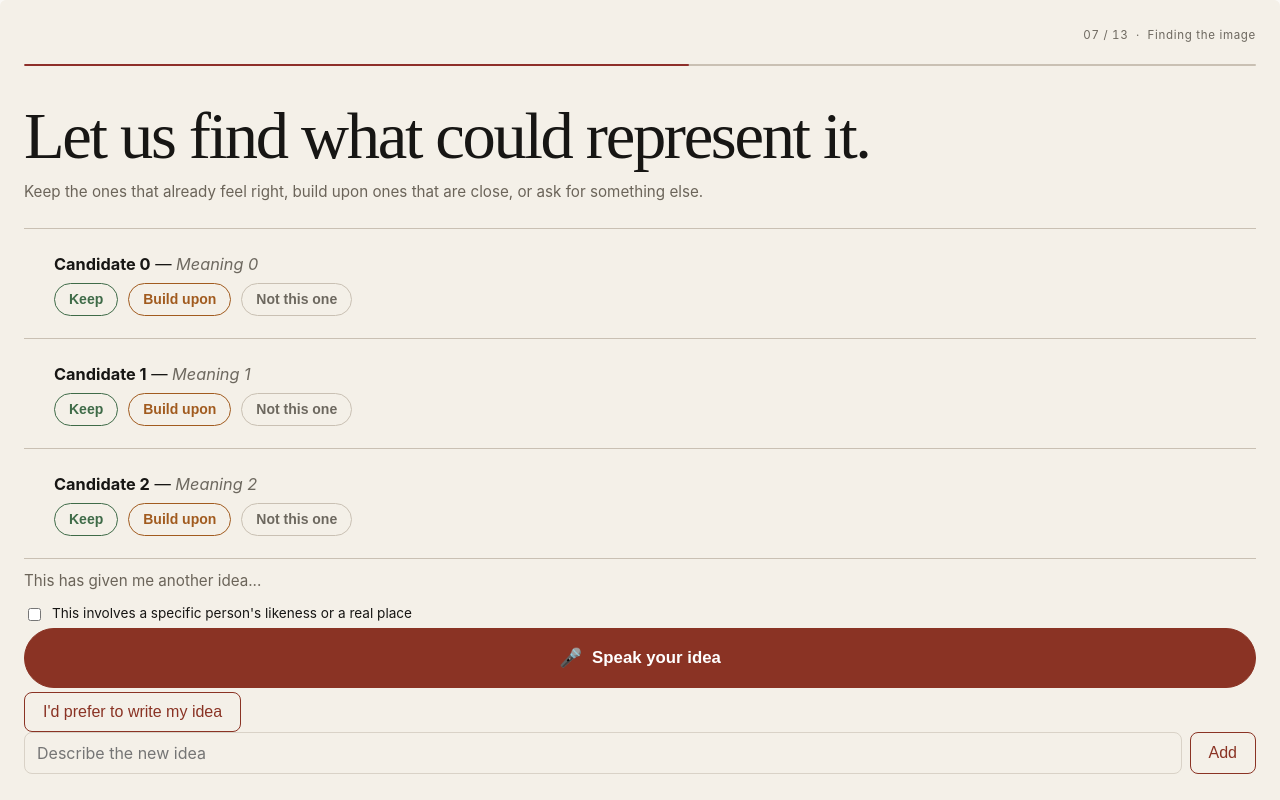
Test: ElementsDiscovery -- Keep / Build upon / Not this one, non-destructive per-slot history › Keep marks a candidate active; clicking Keep again clears the decision
Later steps or results of the test are not shown.
Click the button "Keep" below "Candidate 0" at [86, 300], box [54,283,118,316]
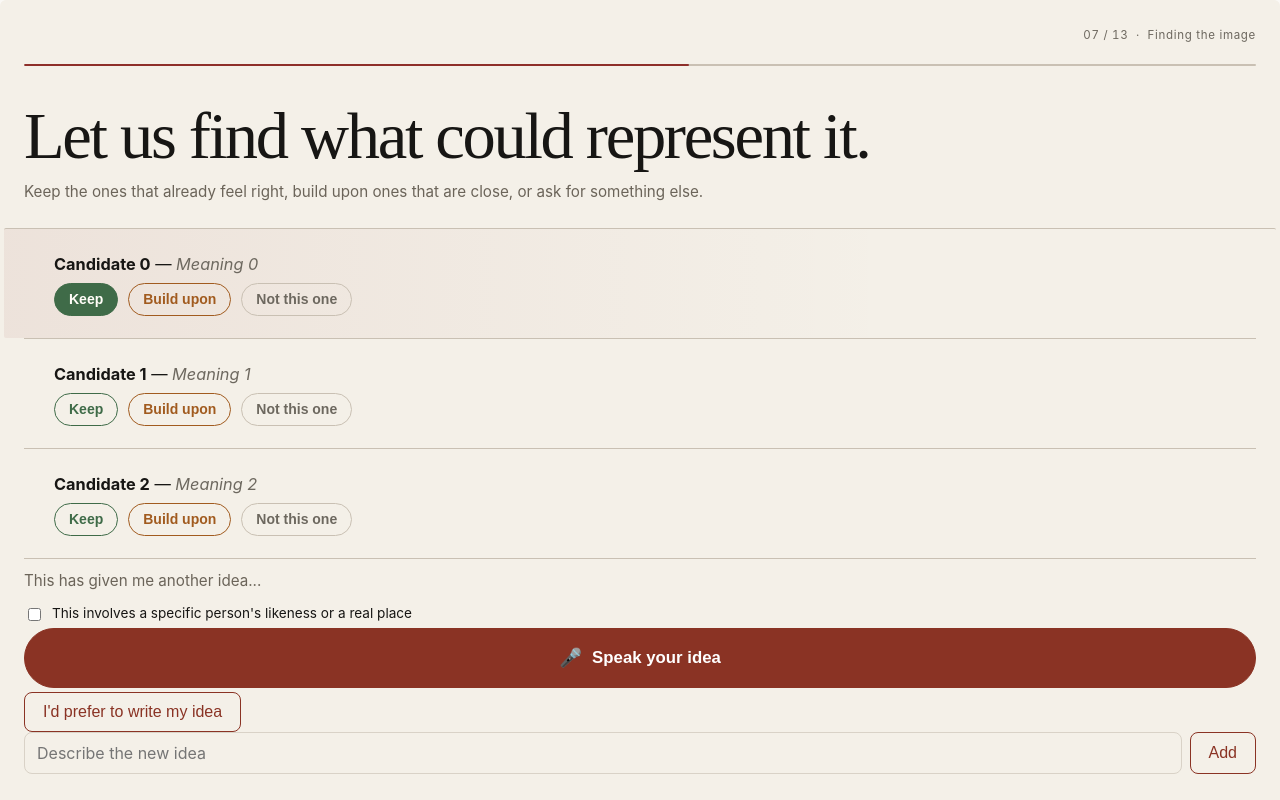
Expected: the button "Keep" below "Candidate 0" has class "active", [54,283,118,316]
